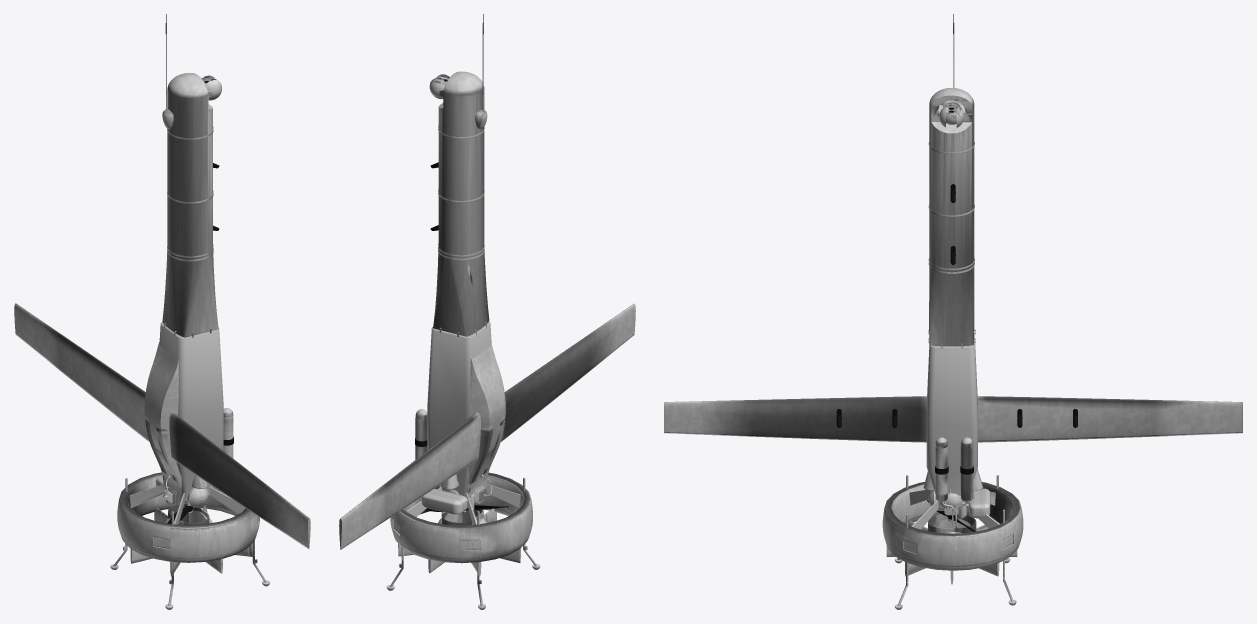
The model's file is vbat.glb.
3 renders of one model, left to right at view 1: azimuth 30°, elevation 25°; view 2: azimuth 150°, elevation 25°; view 3: azimuth 270°, elevation 25°, orthographic.
Parts seen in each view (by area): view 1: Capsule007, Torus001, ChamferBox001, Cylinder001, Cylinder025, Cylinder007, Sphere009; view 2: Capsule007, Torus001, ChamferBox001, Cylinder025, Cylinder001, Cylinder007, ChamferBox002, Sphere009; view 3: Capsule007, Cylinder025, Cylinder001, Torus001, ChamferBox001.
Boxes of the visible parts, x1,y1,x2,y2 form: Capsule007: (162,73,218,337); Torus001: (117,472,259,562); ChamferBox001: (129,322,245,524); Cylinder001: (169,412,310,549); Cylinder025: (14,303,149,442); Cylinder007: (144,342,181,498); Sphere009: (164,503,212,525); Capsule007: (433,71,489,336); Torus001: (390,472,532,563); ChamferBox001: (407,322,520,524); Cylinder025: (339,412,480,549); Cylinder001: (500,303,635,441); Cylinder007: (468,344,505,498); ChamferBox002: (421,489,467,514); Sphere009: (438,504,487,525); Capsule007: (929,88,974,346); Cylinder025: (977,396,1242,442); Cylinder001: (664,396,926,442); Torus001: (882,482,1023,570); ChamferBox001: (909,331,999,529).
Bounding box in the file's own units: 2.37 × 10.42 × 9.74.
Materials: 2 (1 with a texture image).
